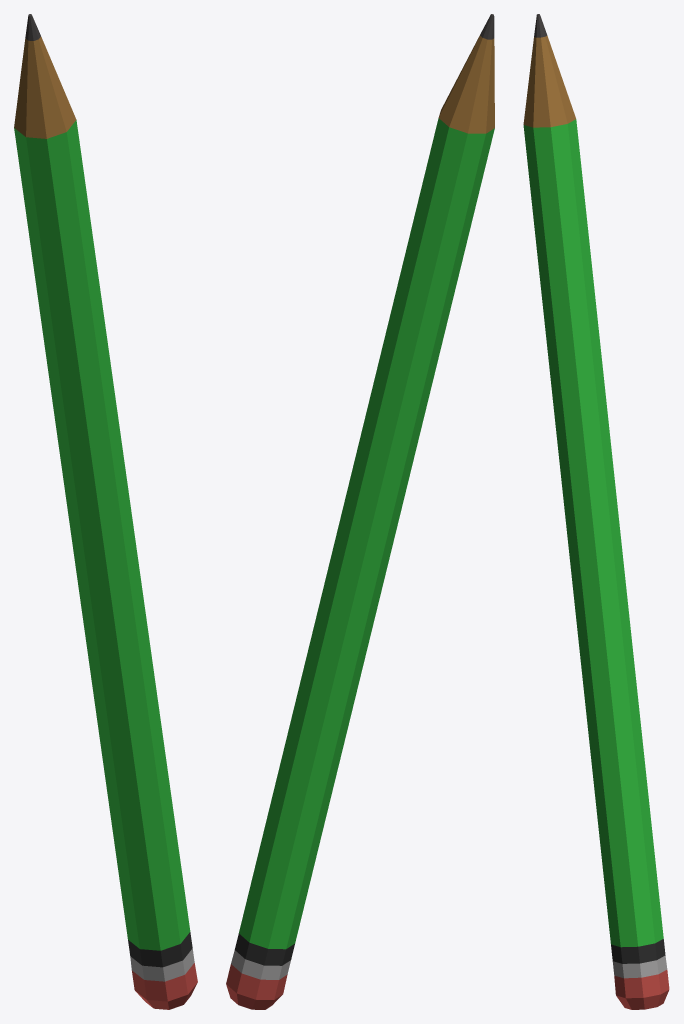
Rendered from PENCIL_02.fbx.
The picture shows the model from 3 angles, left to right: view 1: azimuth 30°, elevation 25°; view 2: azimuth 150°, elevation 25°; view 3: azimuth 270°, elevation 25°; orthographic projection. The views are drawn at different scales.
Visible parts, largest first — view 1: PENCIL_02; view 2: PENCIL_02; view 3: PENCIL_02.
Boxes of the visible parts, <box> form: PENCIL_02: <box>14,14,197,1009</box>; PENCIL_02: <box>226,14,494,1009</box>; PENCIL_02: <box>523,14,669,1009</box>.
Size of the model in its own units: 3.13 by 14.07 by 2.04.
